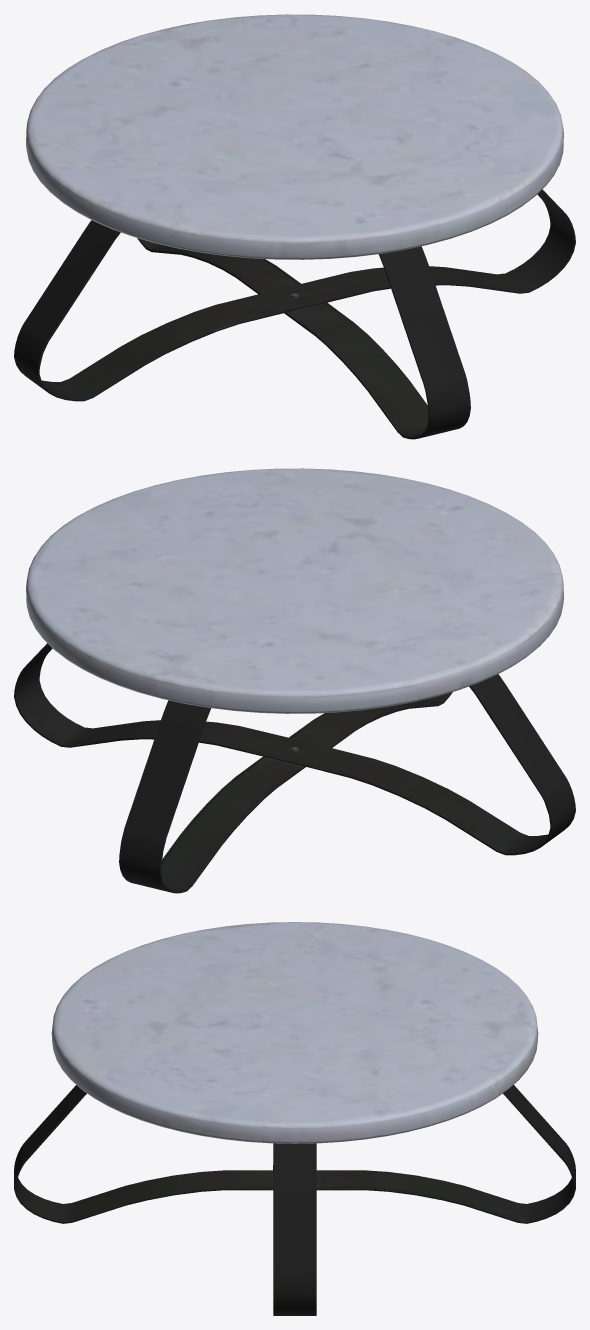
The model's file is coffee_table_round_01.glb.
3 renders of one model, top to bottom at view 1: azimuth 30°, elevation 25°; view 2: azimuth 150°, elevation 25°; view 3: azimuth 270°, elevation 25°, orthographic. The views are drawn at different scales.
Visible parts, largest first — view 1: coffee_table_round_01; view 2: coffee_table_round_01; view 3: coffee_table_round_01.
Boxes of the visible parts, x1=… form: coffee_table_round_01: x1=14, y1=14, x2=575, y2=439; coffee_table_round_01: x1=14, y1=468, x2=575, y2=893; coffee_table_round_01: x1=14, y1=922, x2=575, y2=1315.
Bounding box in the file's own units: 1.3 × 0.4909 × 1.3.
Materials: 1 (1 with a texture image).
